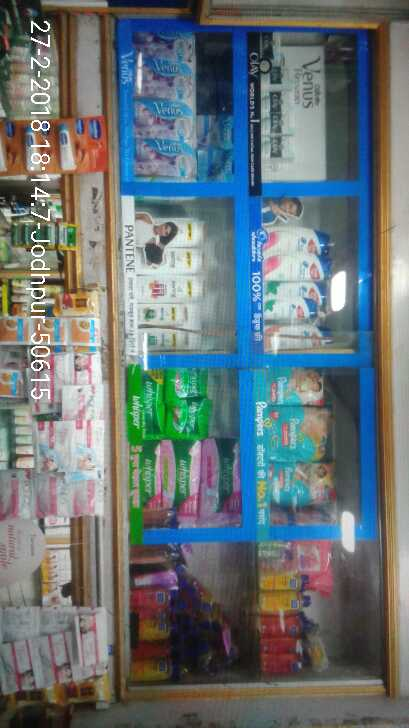venus: (134, 138, 197, 181), (135, 98, 194, 138), (201, 116, 236, 179), (139, 60, 194, 98), (139, 32, 198, 60)
